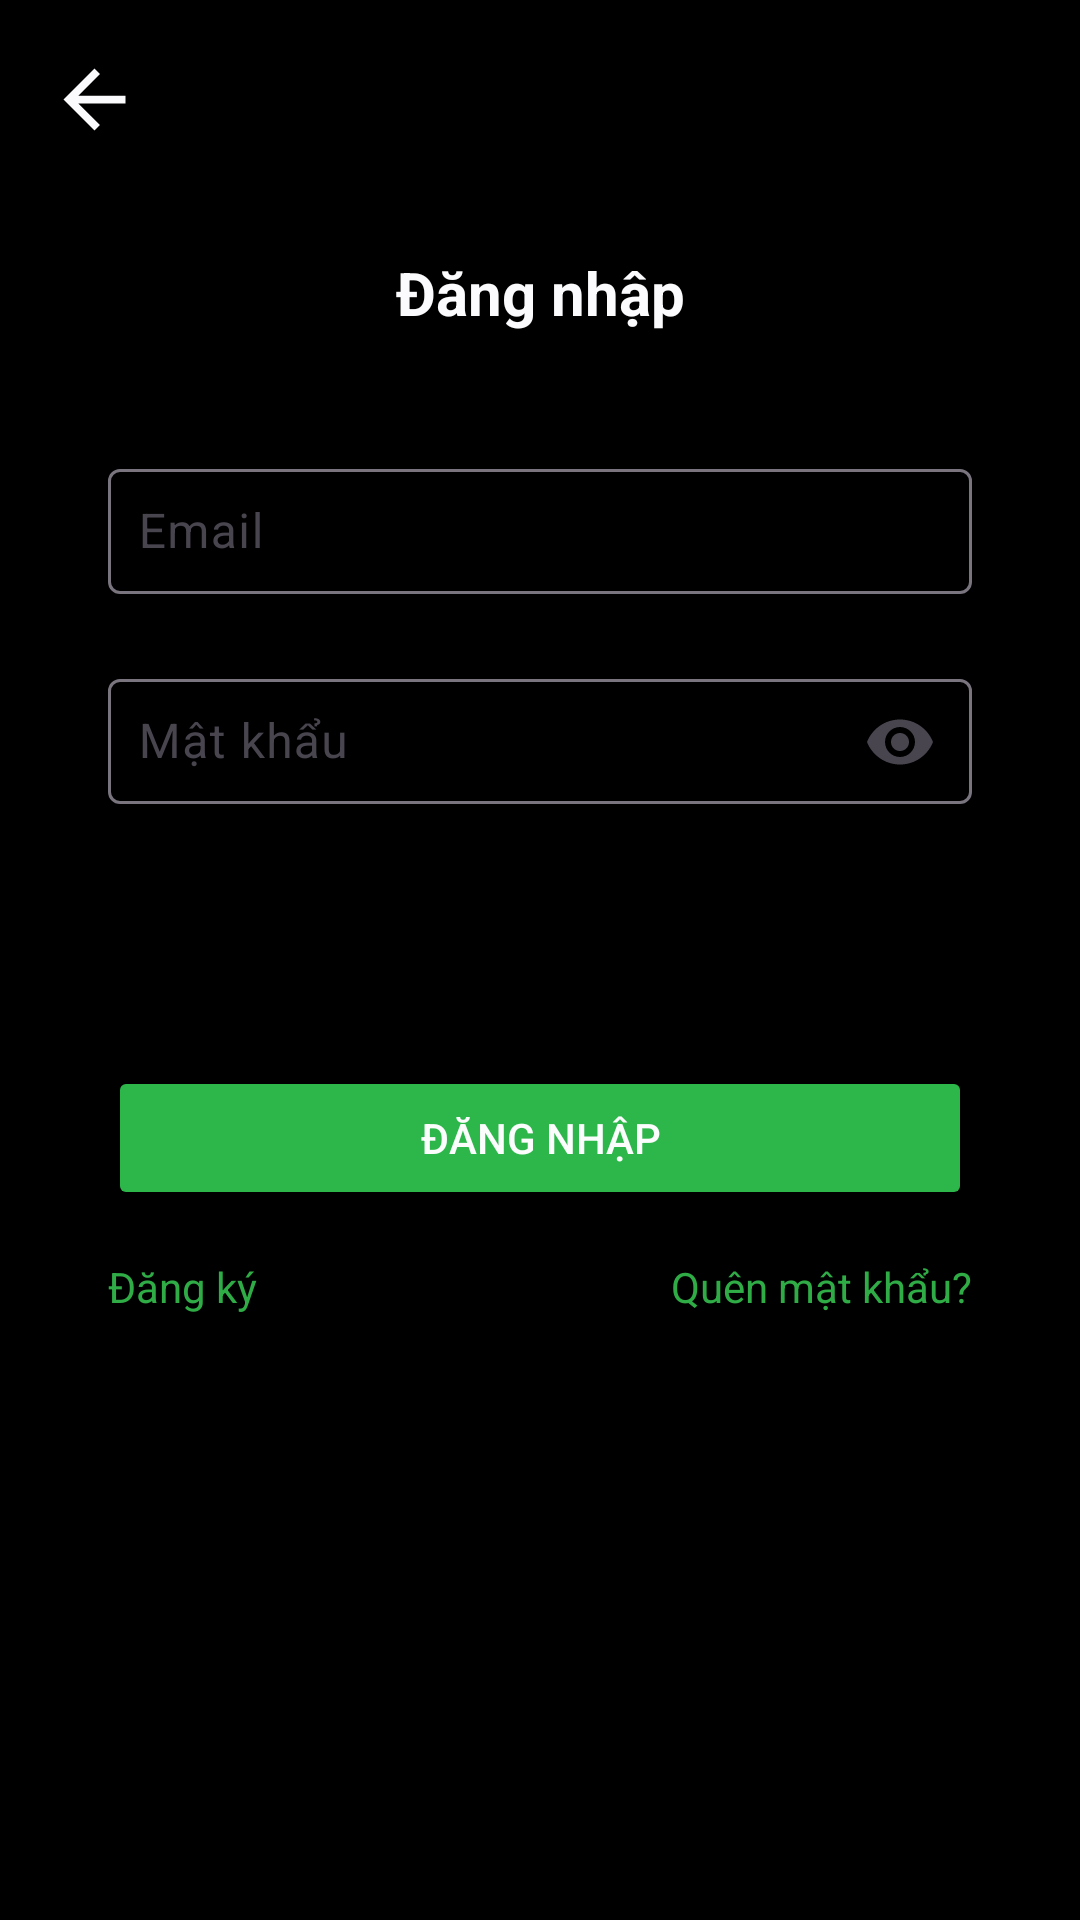

Screen size 1080px×1920px. Icon name, then its center in pixels as [x,y]:
Back: [94,99]
